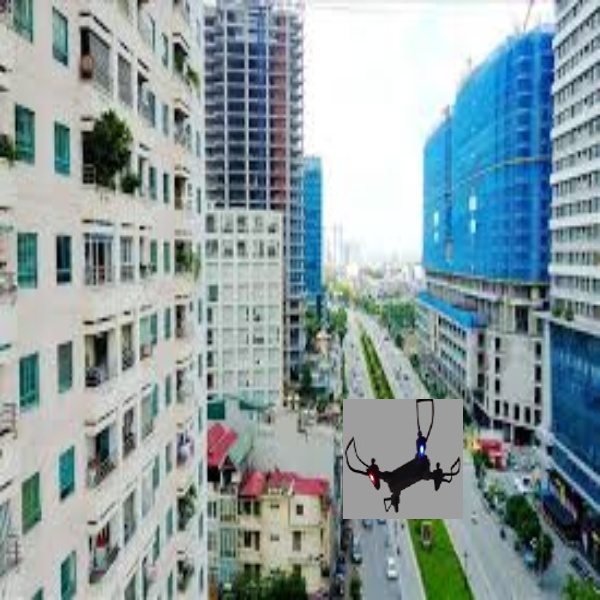drone: (340, 395, 465, 521)
